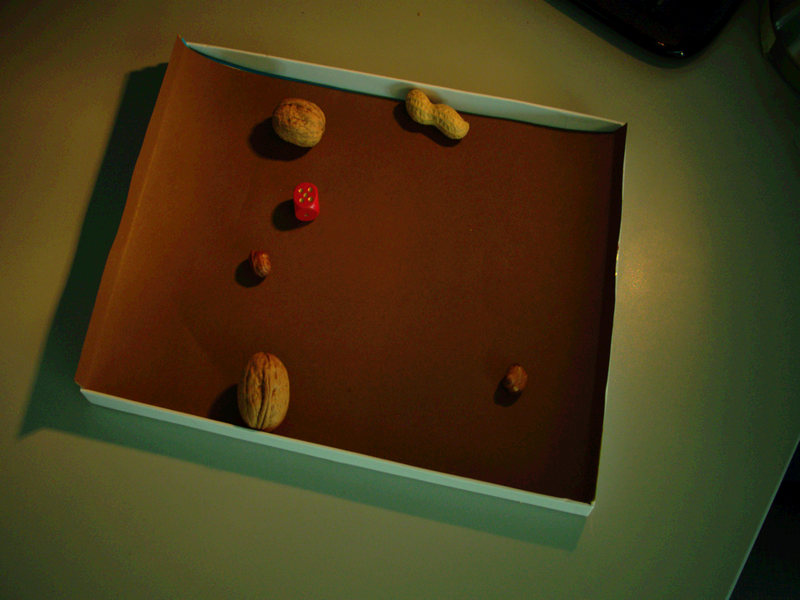walnut: (233, 346, 301, 441), (268, 94, 336, 153)
